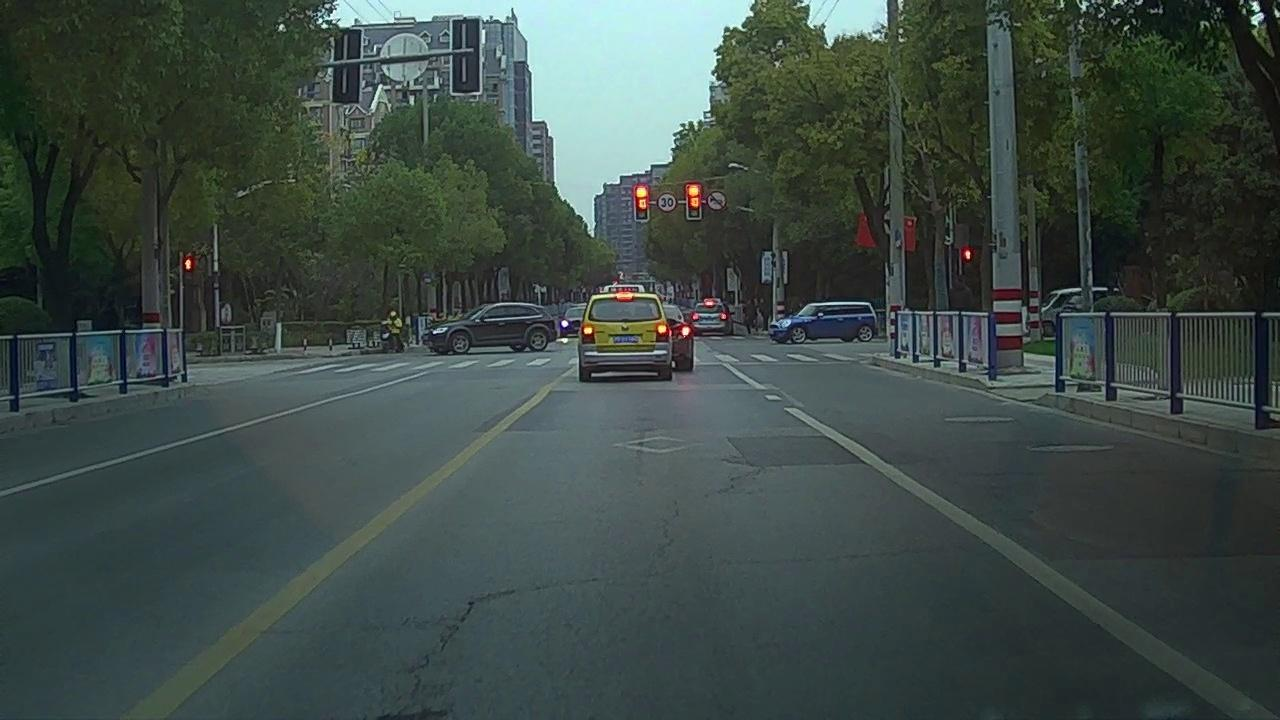traffic_light: (634, 186, 649, 222), (688, 185, 700, 219)
